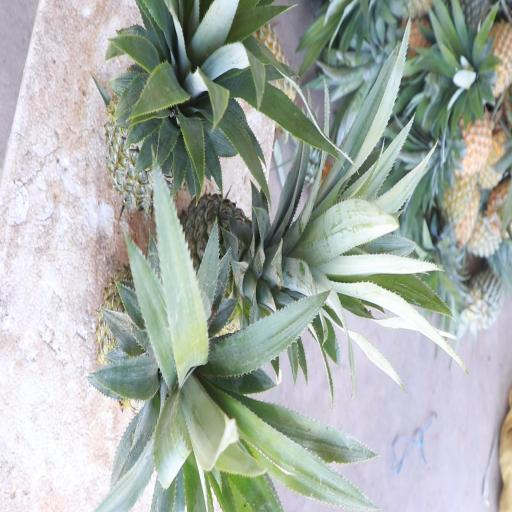Pineapple - v8 v1: (440, 92, 497, 176)
